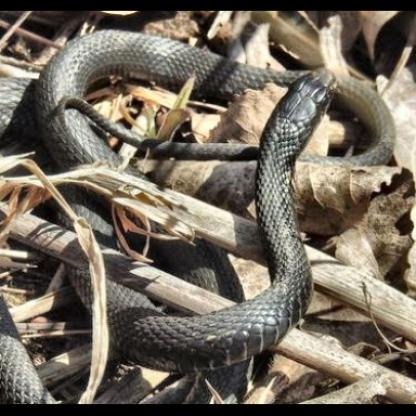Snake: (24, 8, 396, 372)
